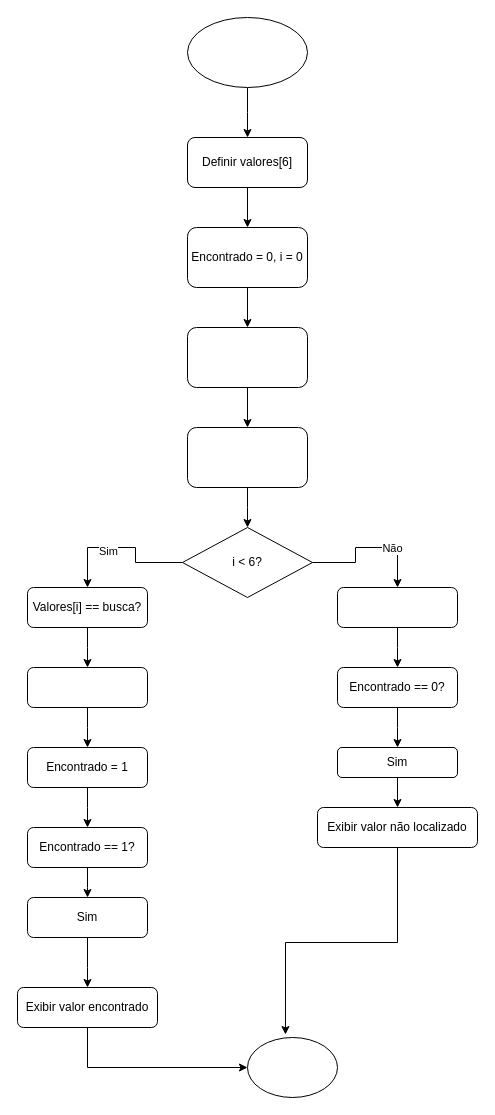
Some shapes in this 495 by 1115 pixel diagram are drawn without their labels. Here are the shapes that lost their labels. From the top down, the centre of each, then its label:
[247,52]: Início
[247,357]: Exibir o valor
[247,457]: Ler a busca
[397,607]: i = i +1
[87,687]: Exibir
[292,1067]: Fim
